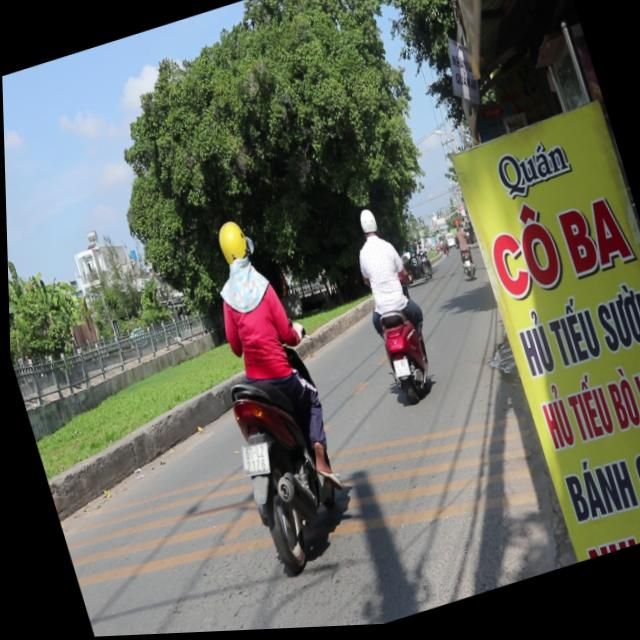helmet: (209, 216, 251, 273), (352, 208, 376, 241)
licenseplate: (165, 203, 366, 587), (333, 199, 442, 414)
nohelmet: (231, 441, 269, 481), (388, 358, 407, 382)
